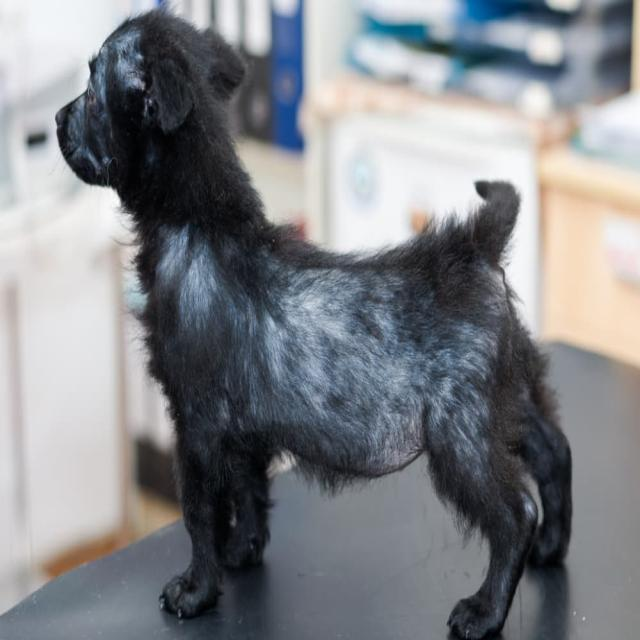mange: (243, 270, 428, 460), (400, 335, 495, 475), (150, 220, 218, 331), (104, 42, 150, 105)
